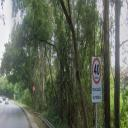speed_limit_40: (92, 58, 101, 84)
